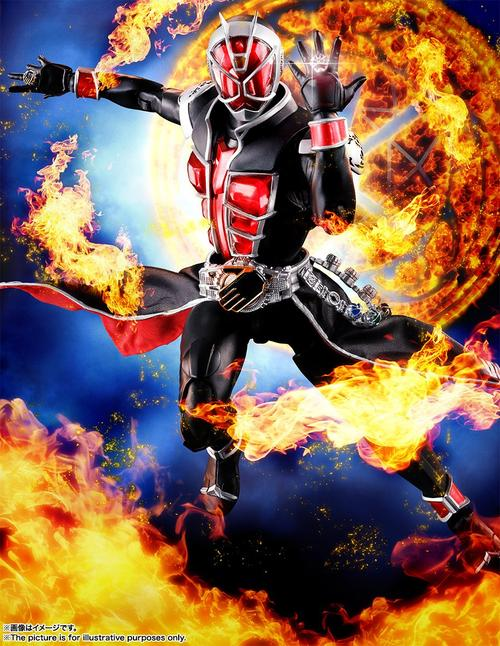fire: (5, 424, 170, 615)
